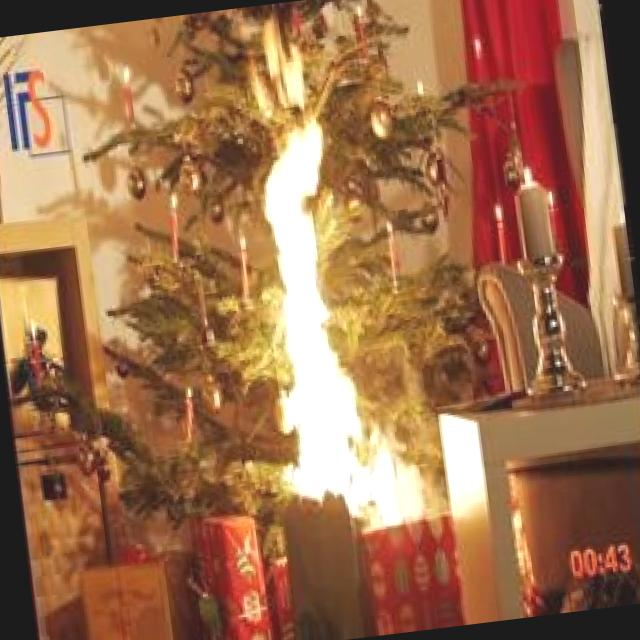fire: (221, 45, 443, 542)
